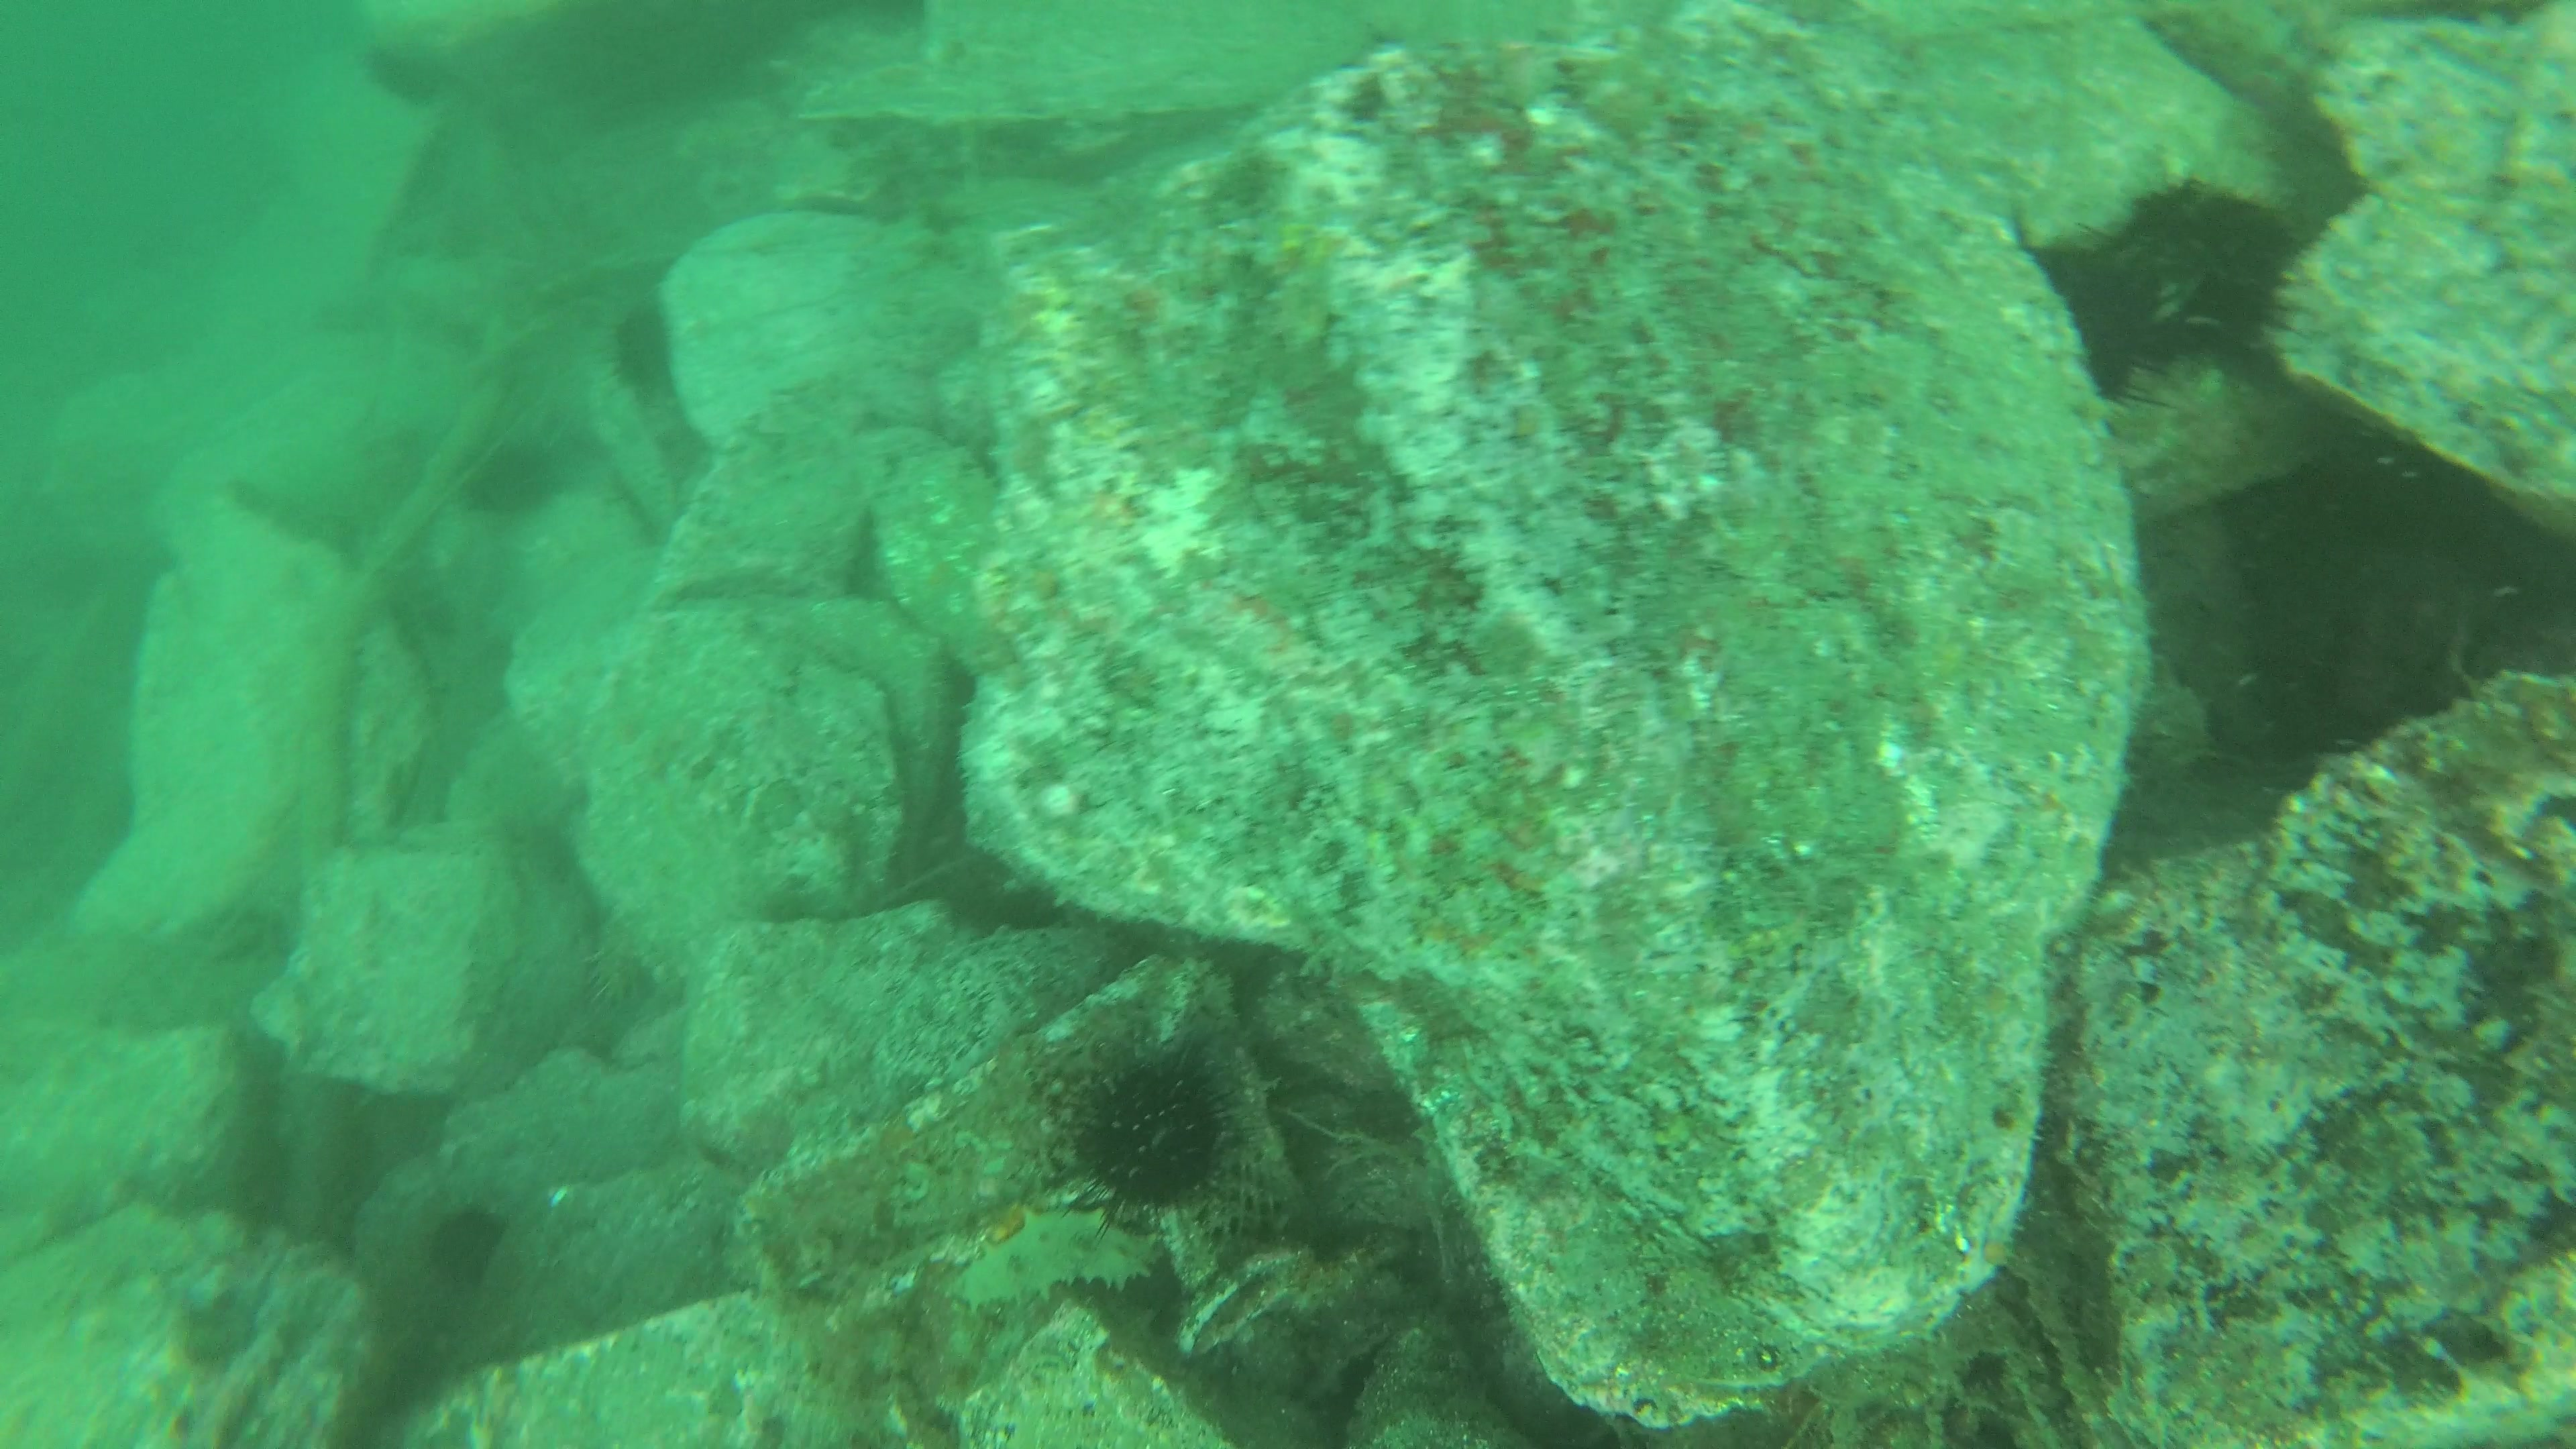echinus: (1067, 1058, 1228, 1215), (2128, 364, 2288, 502), (584, 902, 663, 1014), (603, 306, 683, 409), (430, 1205, 511, 1290)
